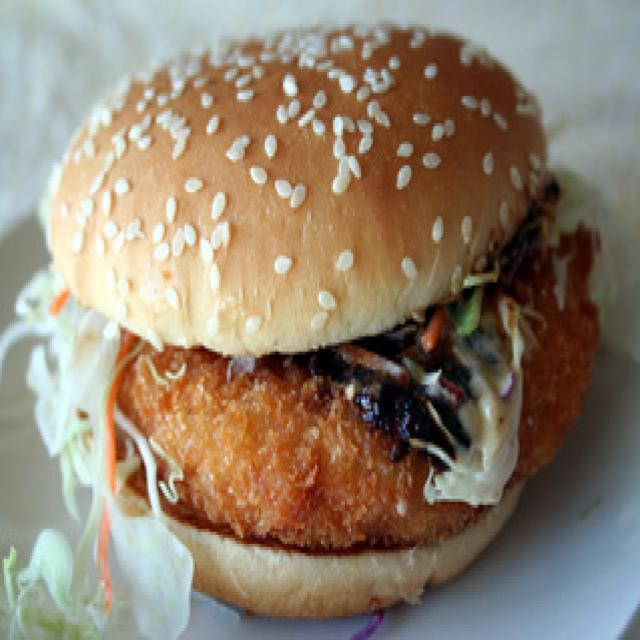Hamburger: (19, 3, 611, 640)
